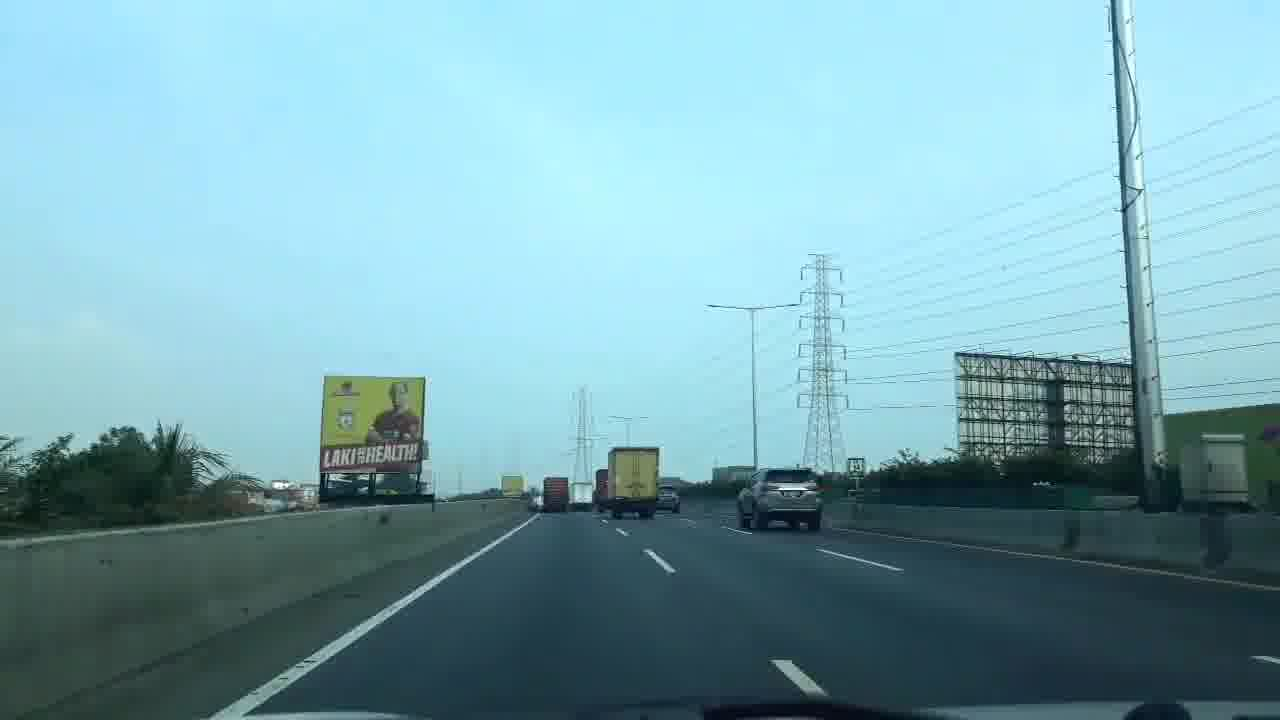plate_positive: (784, 490, 800, 496)
